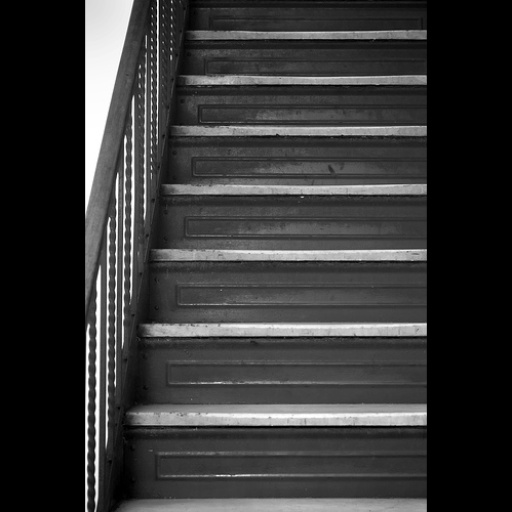Stairs: (116, 0, 426, 512)
